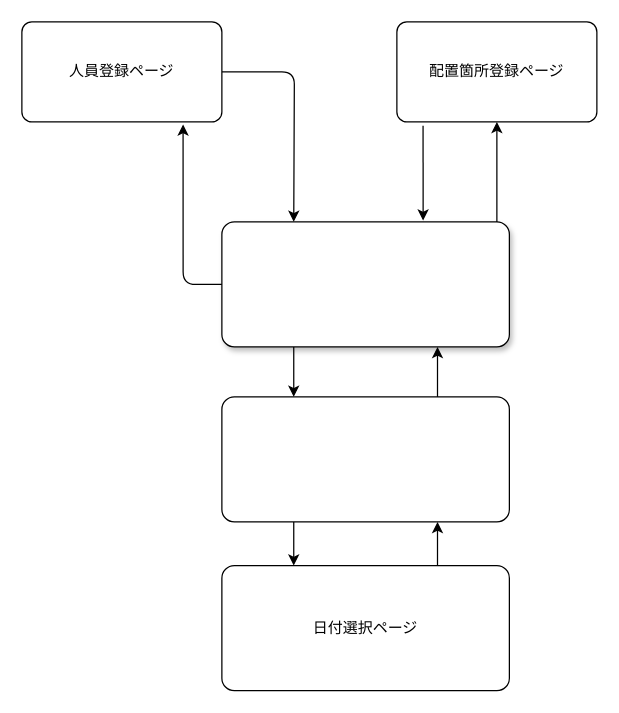
Image size: 619x713. Some labels were removed from this diagram. Here are the shapes that lost their labels. From the top down, the centre of each, then its label:
(366,286): 配置表登録ページ
(365,459): トップページ
